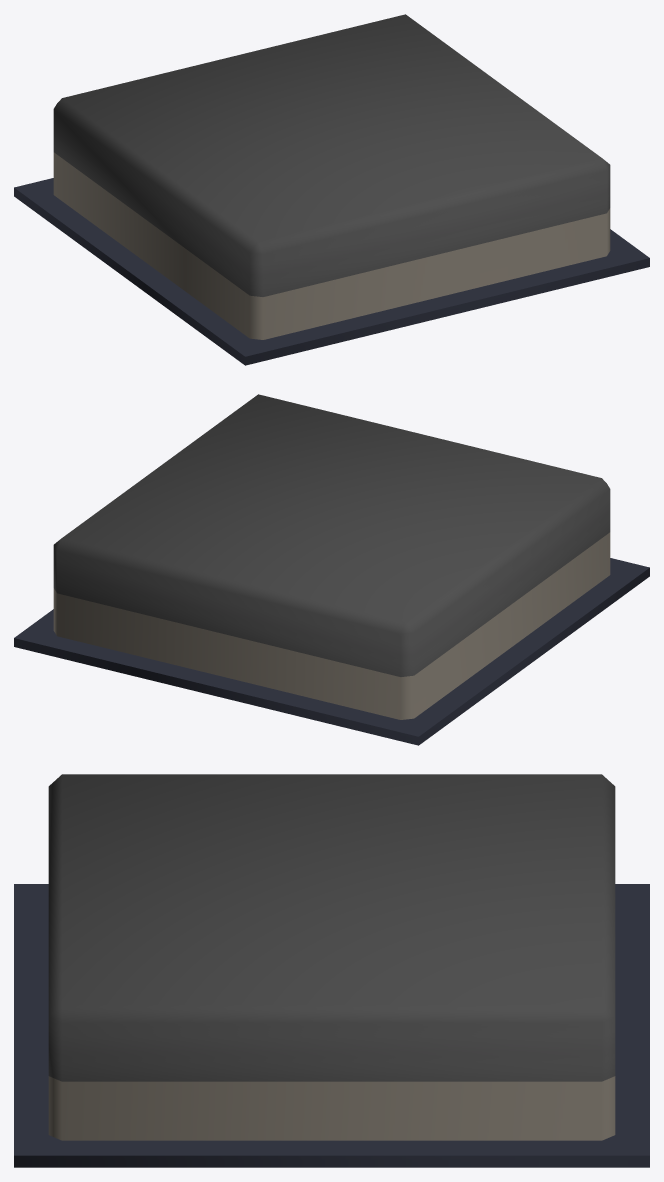
Rendered from RoofAdd_2_A_1.fbx.
3 renders of one model, top to bottom at view 1: azimuth 30°, elevation 25°; view 2: azimuth 150°, elevation 25°; view 3: azimuth 270°, elevation 25°, orthographic. The views are drawn at different scales.
Parts seen in each view (by area): view 1: RoofAdd_2_A_1; view 2: RoofAdd_2_A_1; view 3: RoofAdd_2_A_1.
Boxes of the visible parts, x1,y1,x2,y2 form: RoofAdd_2_A_1: (14, 14, 649, 365); RoofAdd_2_A_1: (14, 394, 649, 745); RoofAdd_2_A_1: (14, 774, 649, 1167).
Bounding box in the file's own units: 303 × 74.17 × 300.
